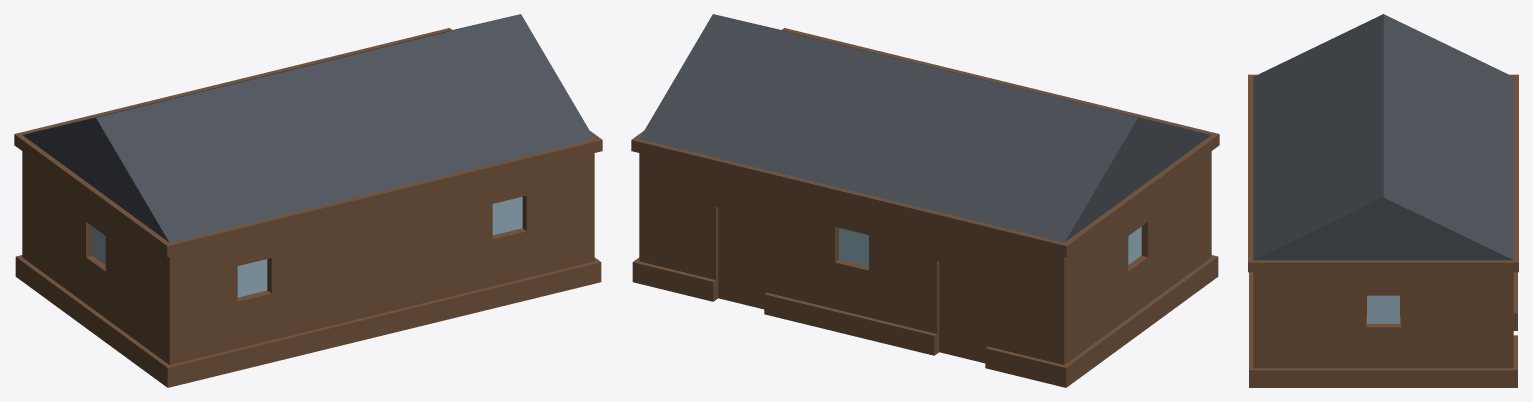
The picture shows the model from 3 angles, left to right: view 1: azimuth 30°, elevation 25°; view 2: azimuth 150°, elevation 25°; view 3: azimuth 270°, elevation 25°; orthographic projection. The views are drawn at different scales.
Parts seen in each view (by area): view 1: roof_slate, body_timber, trim_timber, glass_glass (×2); view 2: roof_slate, body_timber, trim_timber, glass_glass; view 3: roof_slate, body_timber, trim_timber, glass_glass.
Part boxes in pixels (x1,y1,x2,y2): roof_slate: (23, 14, 594, 242); body_timber: (22, 151, 594, 364); trim_timber: (14, 28, 602, 387); glass_glass (×2): (237, 196, 522, 297); roof_slate: (639, 14, 1210, 242); body_timber: (639, 151, 1211, 364); trim_timber: (631, 28, 1219, 387); glass_glass: (839, 228, 868, 266); roof_slate: (1253, 14, 1513, 260); body_timber: (1253, 272, 1513, 368); trim_timber: (1248, 74, 1518, 387); glass_glass: (1367, 295, 1399, 323).
Size of what is drawn, in the model's own units: 10.24 by 4.8 by 6.24.
